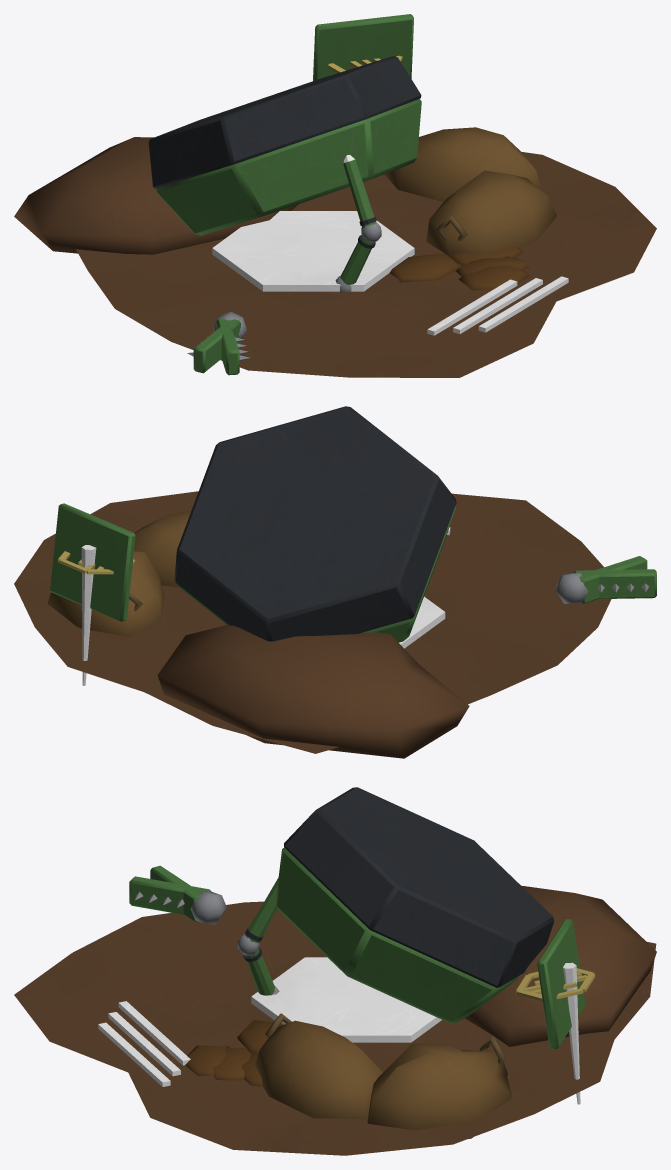
Rendered from scuttler_seed_cache.glb.
3 renders of one model, top to bottom at view 1: azimuth 30°, elevation 25°; view 2: azimuth 150°, elevation 25°; view 3: azimuth 270°, elevation 25°, orthographic. The views are drawn at different scales.
Visible parts, largest first — view 1: scuttler_seed_cache.001; view 2: scuttler_seed_cache.001; view 3: scuttler_seed_cache.001.
Boxes of the visible parts, x1,y1,x2,y2 form: scuttler_seed_cache.001: [14, 14, 656, 377]; scuttler_seed_cache.001: [14, 406, 656, 758]; scuttler_seed_cache.001: [14, 787, 656, 1155].
Bounding box in the file's own units: 2.44 × 0.98 × 2.53.
Materials: 11 (11 with a texture image).
